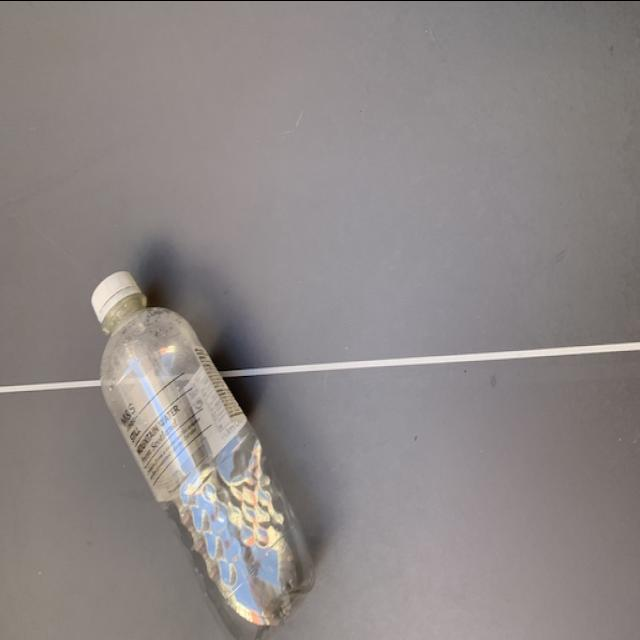litter: (90, 271, 318, 640)
